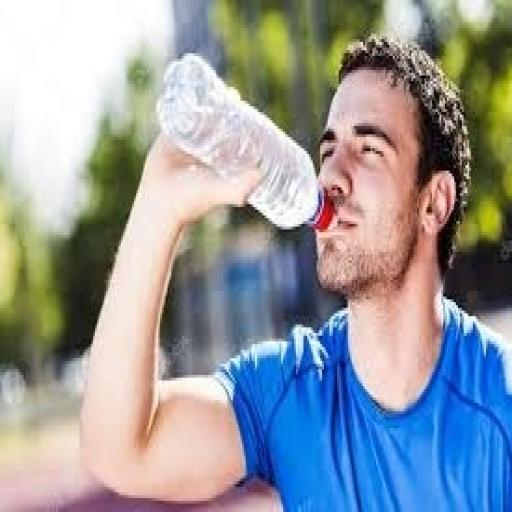drinking: (155, 50, 335, 232)
